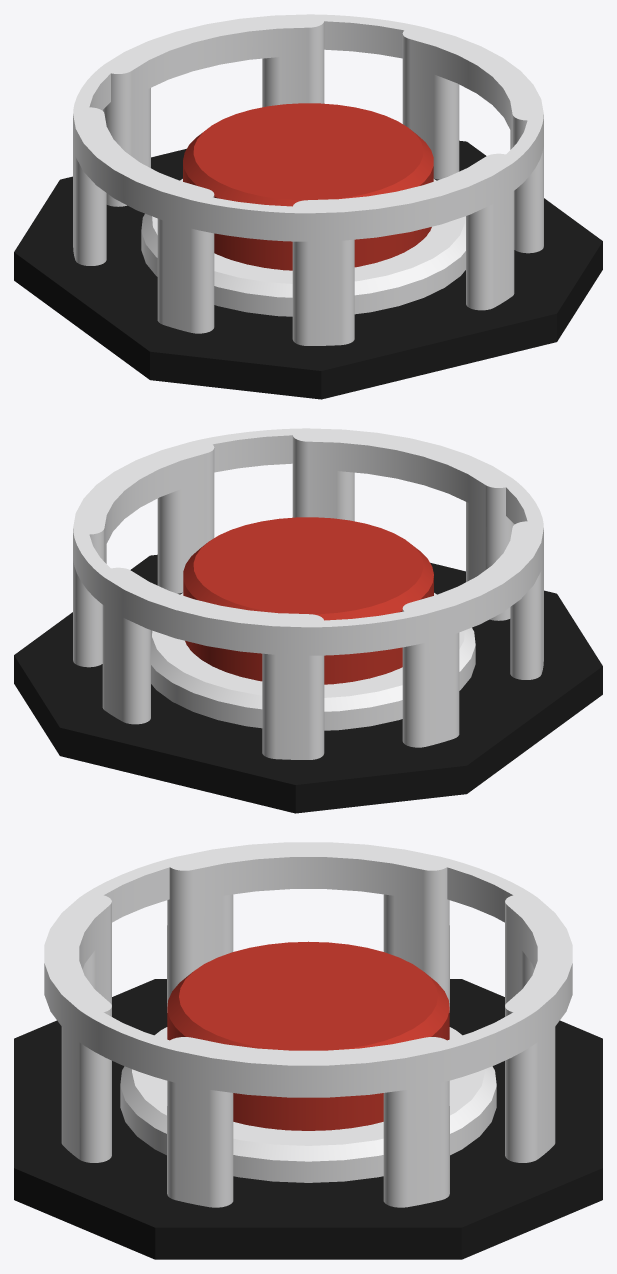
Rendered from button-5-f-ns.obj.
3 views of the same model, one above another, from view 1: azimuth 30°, elevation 25°; view 2: azimuth 150°, elevation 25°; view 3: azimuth 270°, elevation 25° (orthographic). The views are drawn at different scales.
Visible parts, largest first — view 1: Body1, Body2; view 2: Body1, Body2; view 3: Body1, Body2.
Part boxes in pixels (x1,y1,x2,y2): Body1: (14,14,602,399); Body2: (183,103,433,270); Body1: (14,428,602,813); Body2: (183,517,433,684); Body1: (14,842,602,1259); Body2: (167,941,449,1130).
Size of the model in its own units: 5 by 1.7 by 5.
